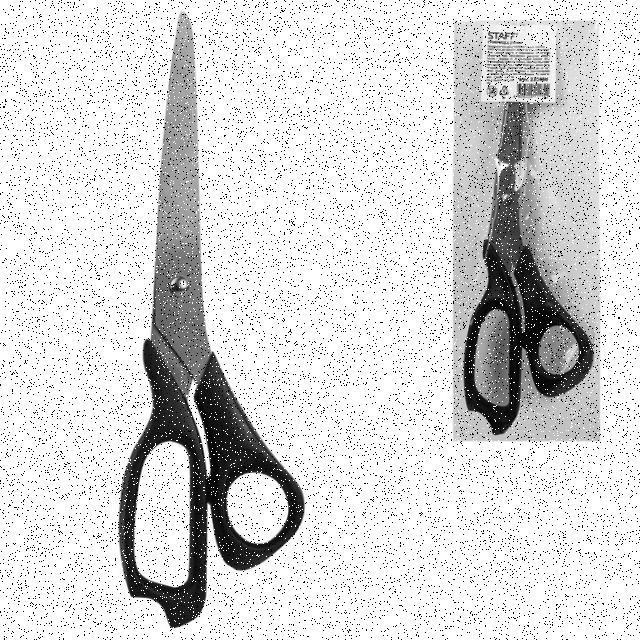scissors: (110, 8, 310, 634), (456, 22, 597, 442)
